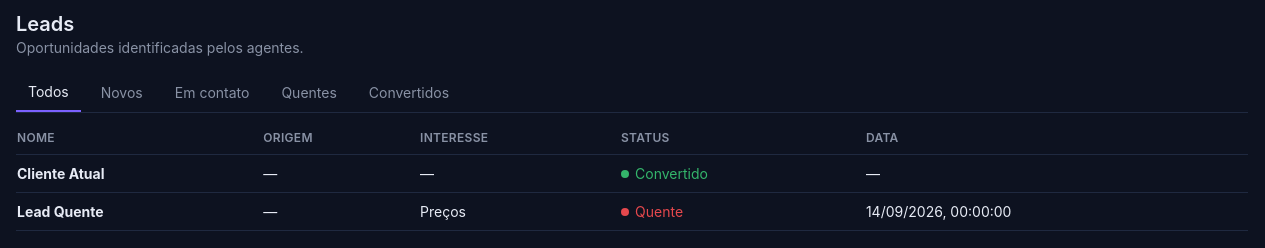
Scenario: SalesPanel › aba Quentes filtra pra mostrar só leads com intenção alta
Expected: the text "Lead Quente" is shown, [17, 202, 104, 220]
What coordinates should you click on to do the following:
click the tab "Quentes"
I would click on:
 (309, 93)
Its box is [269, 74, 349, 112].
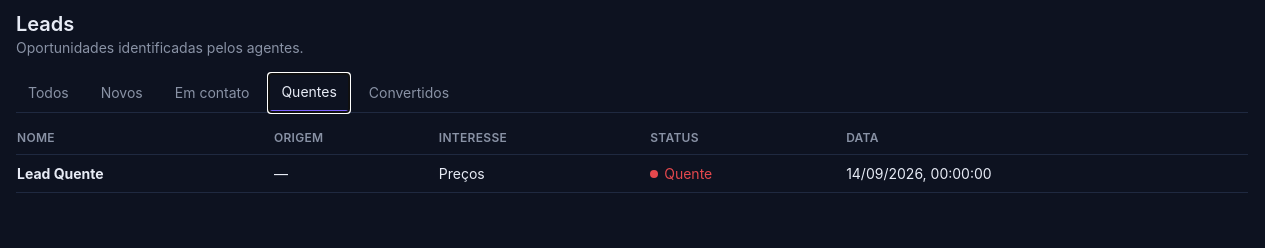
Expected: the text "Lead Quente" is shown, [17, 164, 104, 182]
Expected: the text "Cliente Atual" is gone
